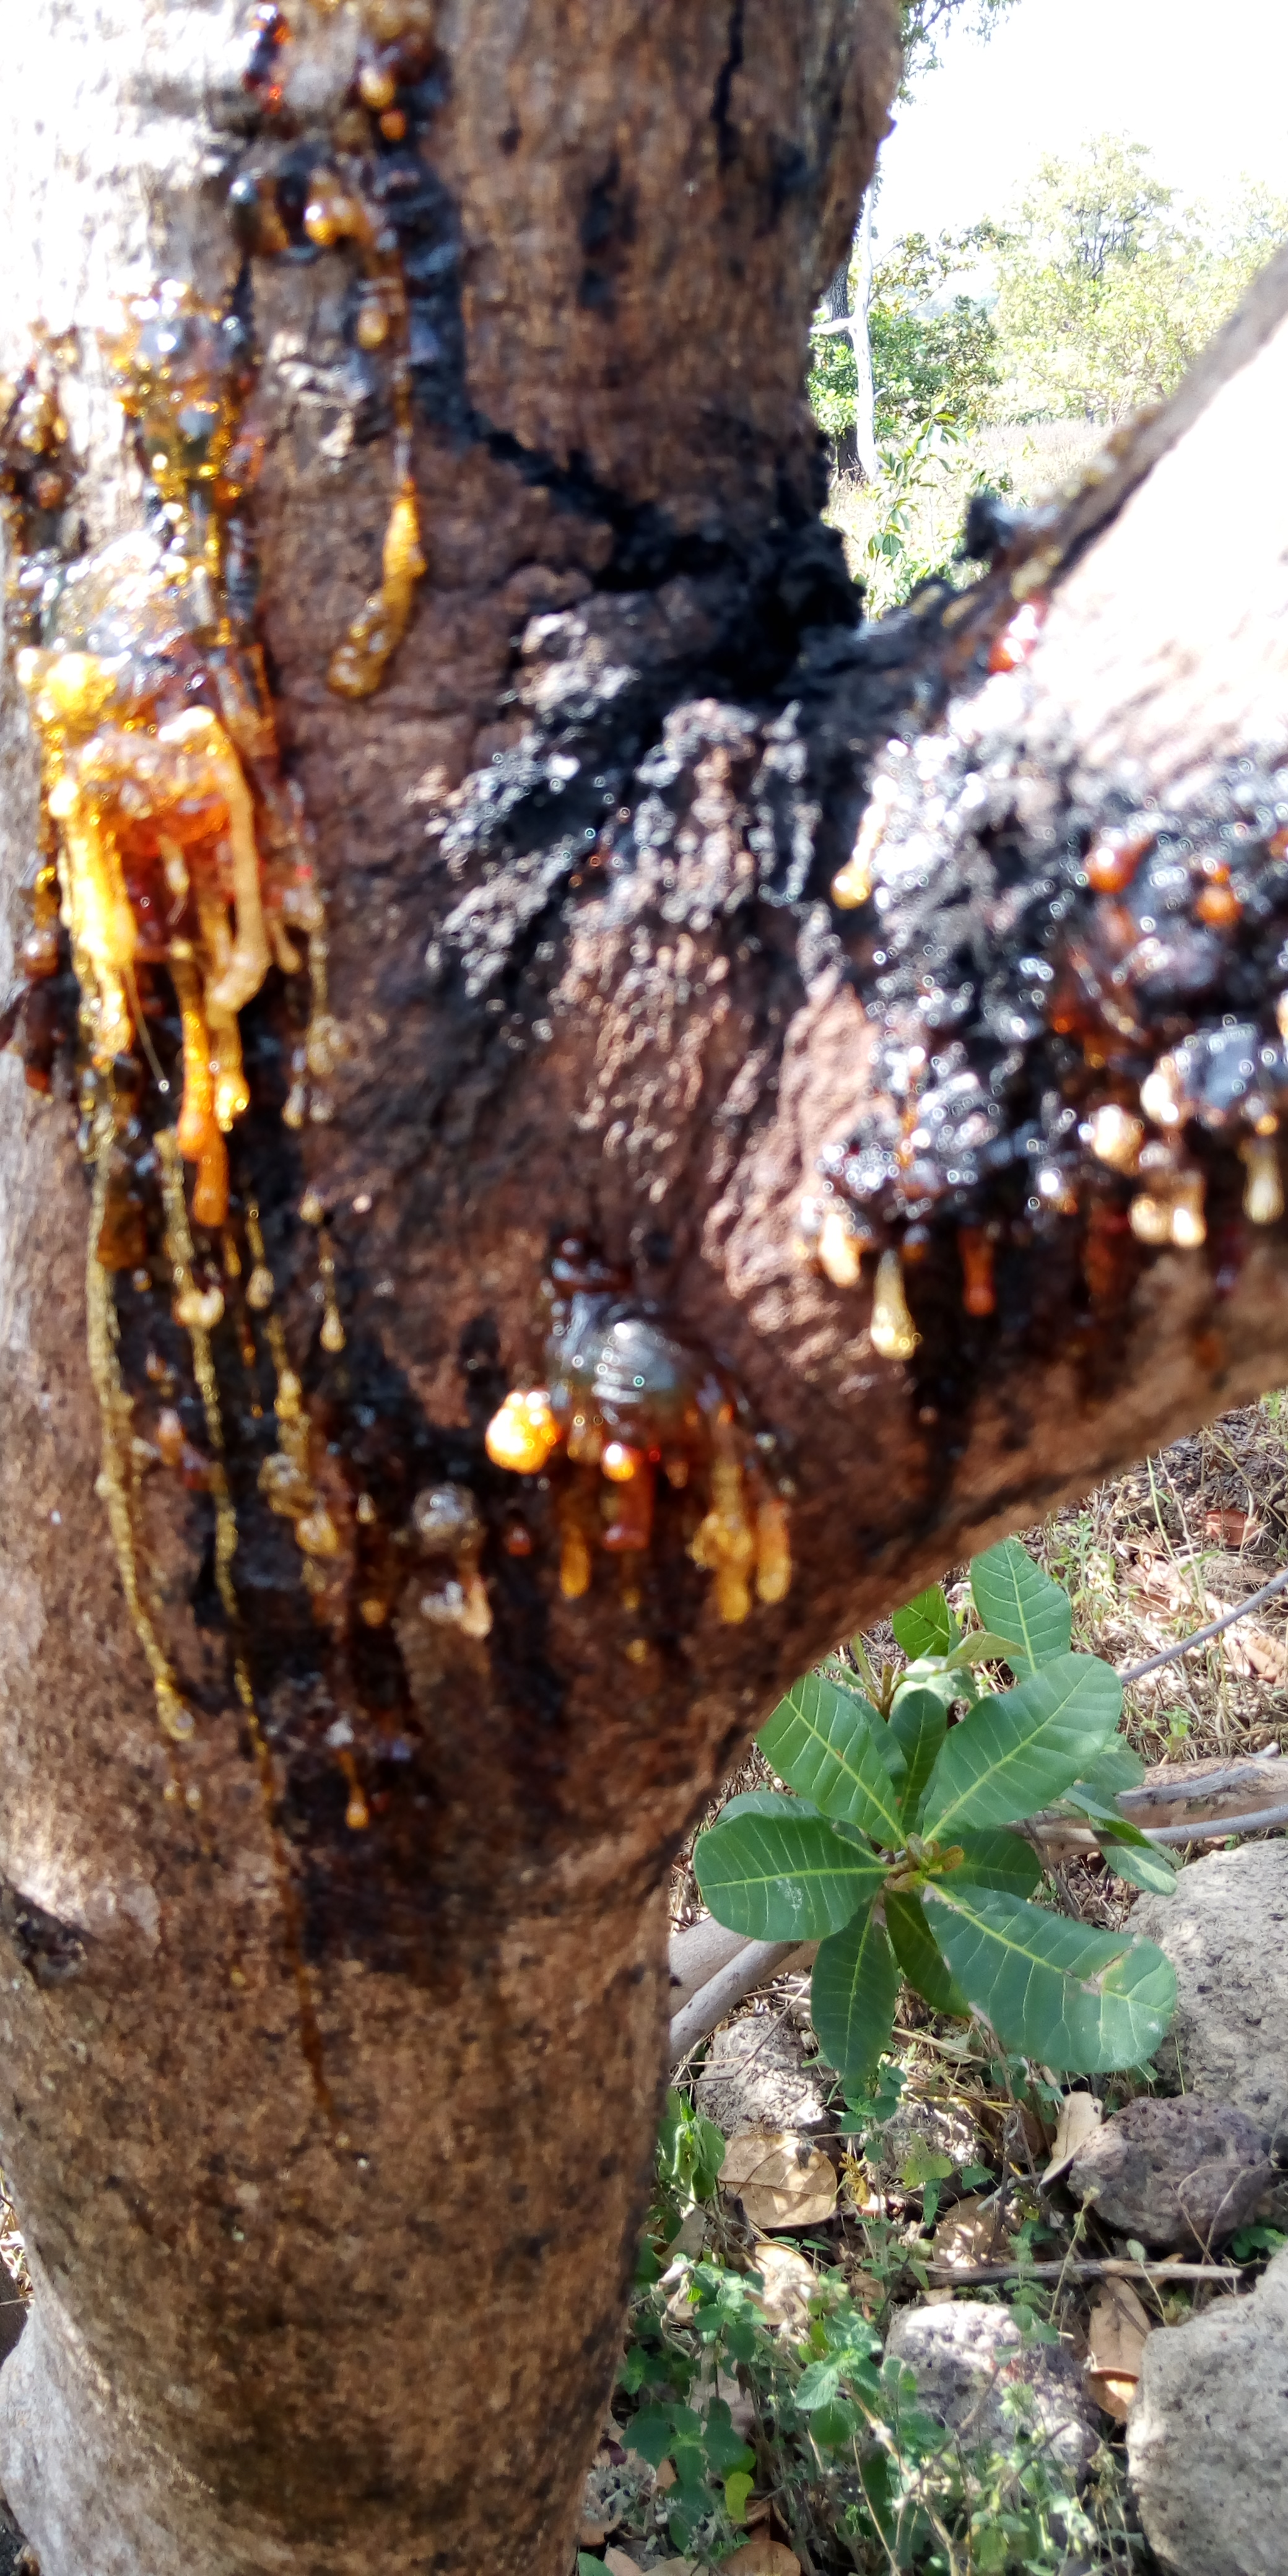Gommose: (28, 8, 1237, 1981)
